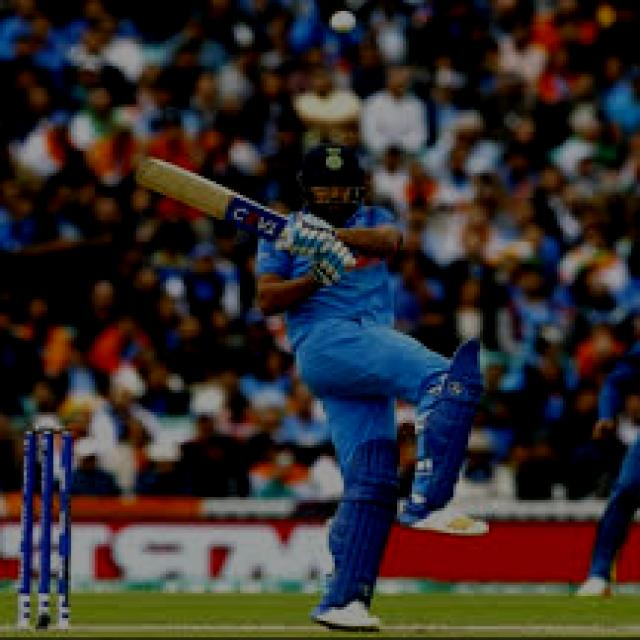toe: (118, 150, 180, 194)
